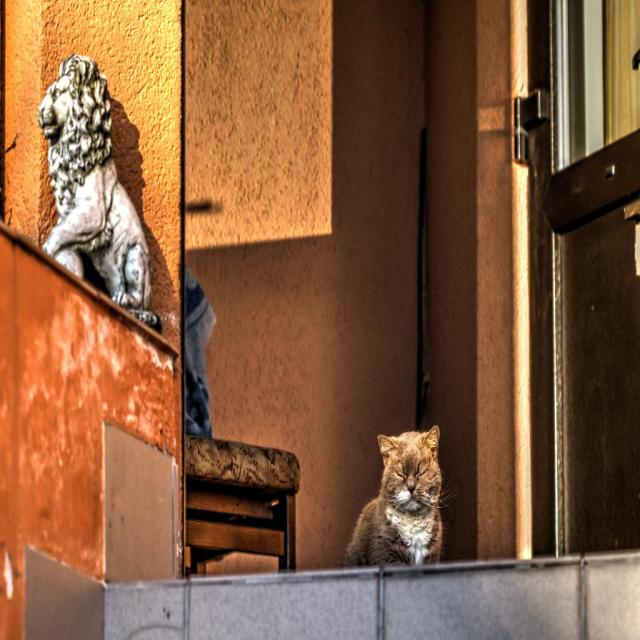Cat: (343, 418, 459, 565)
